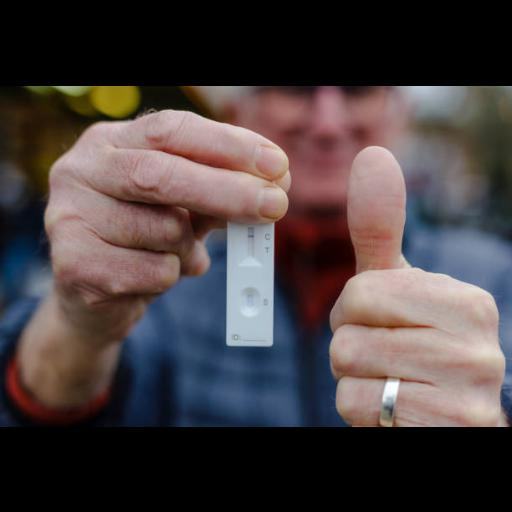Neg: (228, 216, 272, 346)
